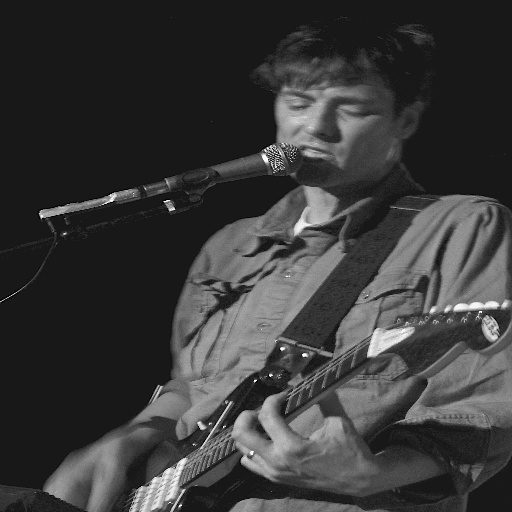hand: (229, 388, 384, 500), (40, 457, 124, 511)
